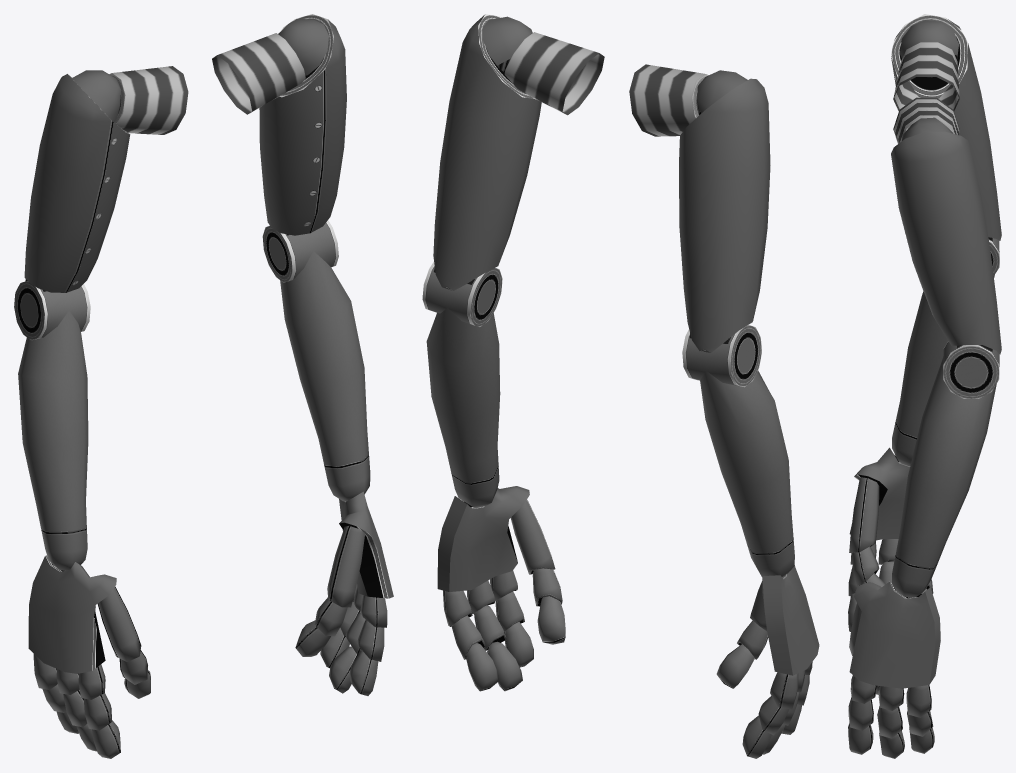
The model's file is arms_s.fbx.
The picture shows the model from 3 angles, left to right: view 1: azimuth 30°, elevation 25°; view 2: azimuth 150°, elevation 25°; view 3: azimuth 270°, elevation 25°; orthographic projection. The views are drawn at different scales.
Parts seen in each view (by area): view 1: ARMS_S; view 2: ARMS_S; view 3: ARMS_S.
Part boxes in pixels (x1,y1,x2,y2): ARMS_S: (14, 14, 393, 758); ARMS_S: (422, 14, 819, 758); ARMS_S: (848, 14, 1001, 758).
Size of the model in its own units: 39.94 by 73.95 by 16.4.
